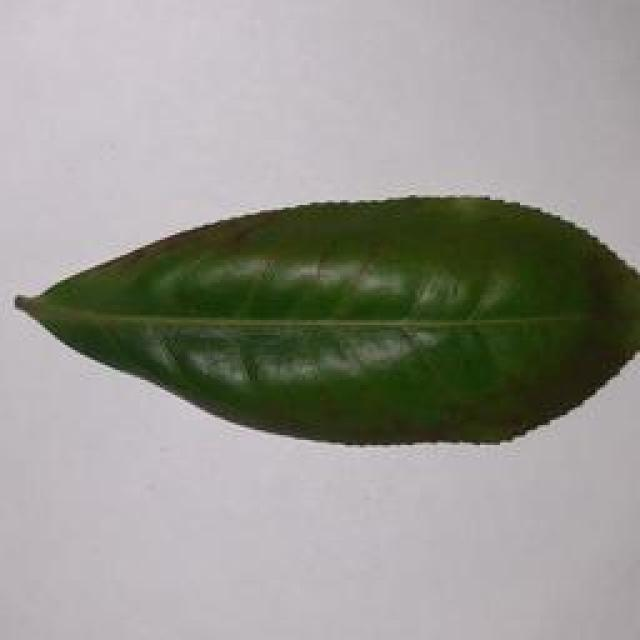Red Leaf Spot: (13, 175, 638, 448)
